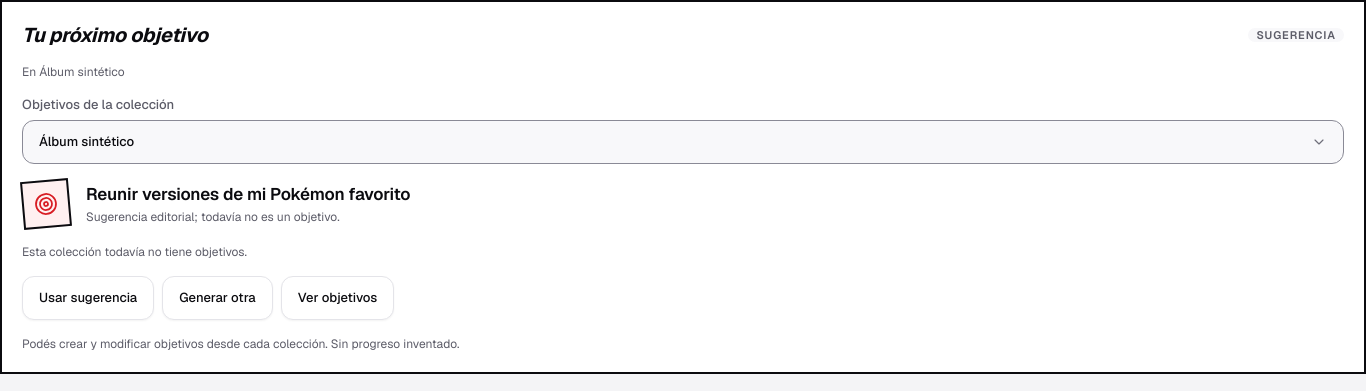
Objetivo de Home — S3/S4 › genera sólo ideas editoriales localmente y vuelve a la primera sin mutar
The width and height of the screenshot is (1366, 391).
Expected: the heading "Reunir versiones de mi Pokémon favorito" is shown, [86,183,410,205]
Click the button "Generar otra".
click(217, 298)  # box [162,276,273,320]
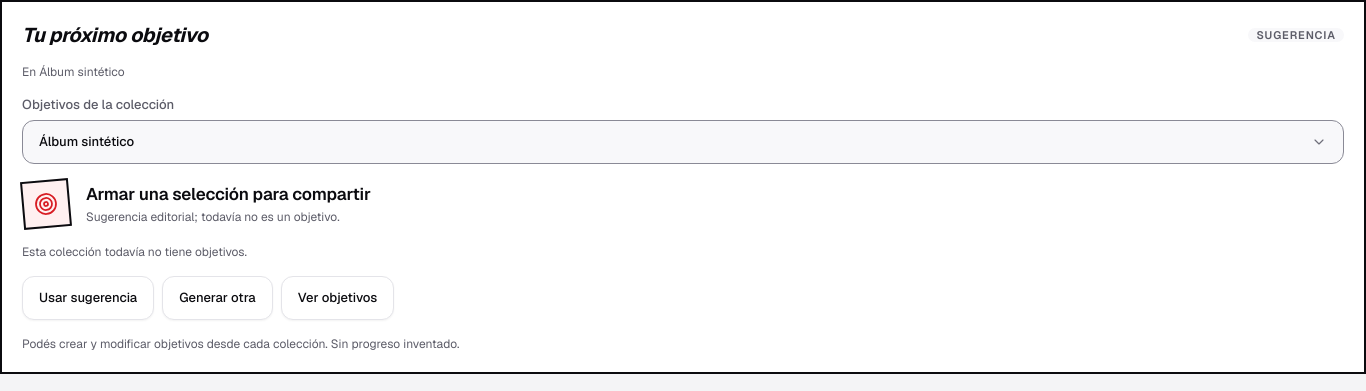
Now the heading "Armar una selección para compartir" is shown, box [86,183,371,205]
Click the button "Generar otra".
click(217, 298)  # box [162,276,273,320]
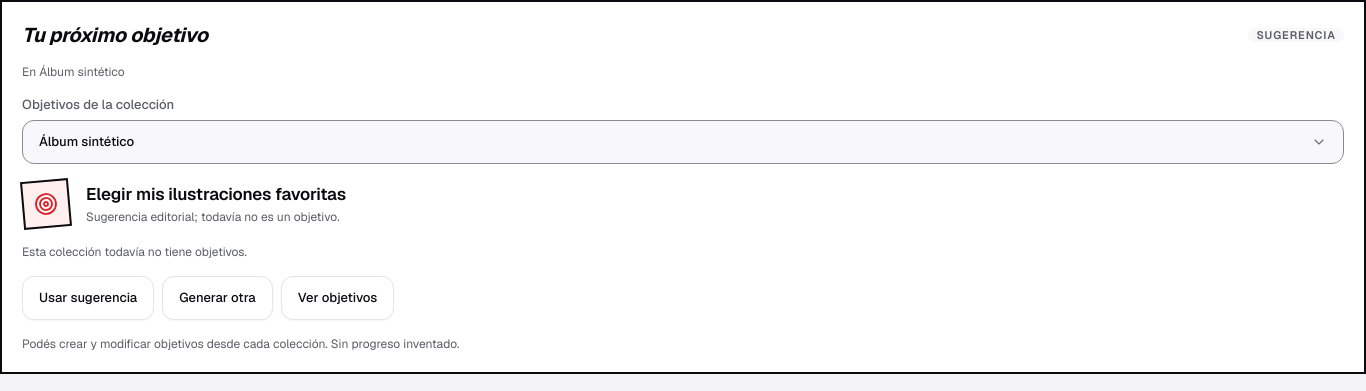
Now the heading "Elegir mis ilustraciones favoritas" is shown, box [86,183,346,205]
Click the button "Generar otra".
click(217, 298)  # box [162,276,273,320]
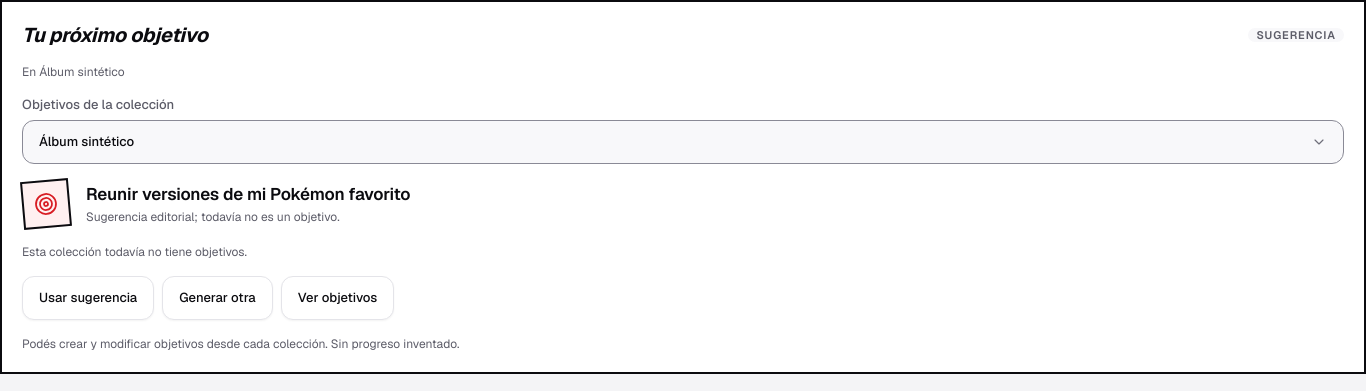
Now the heading "Reunir versiones de mi Pokémon favorito" is shown, box [86,183,410,205]
